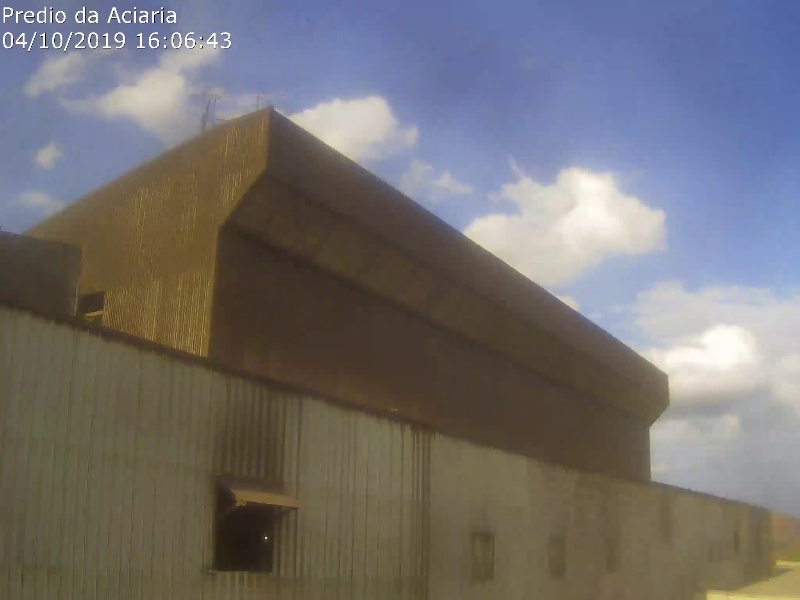bom: (257, 20, 753, 413), (1, 6, 268, 140)
